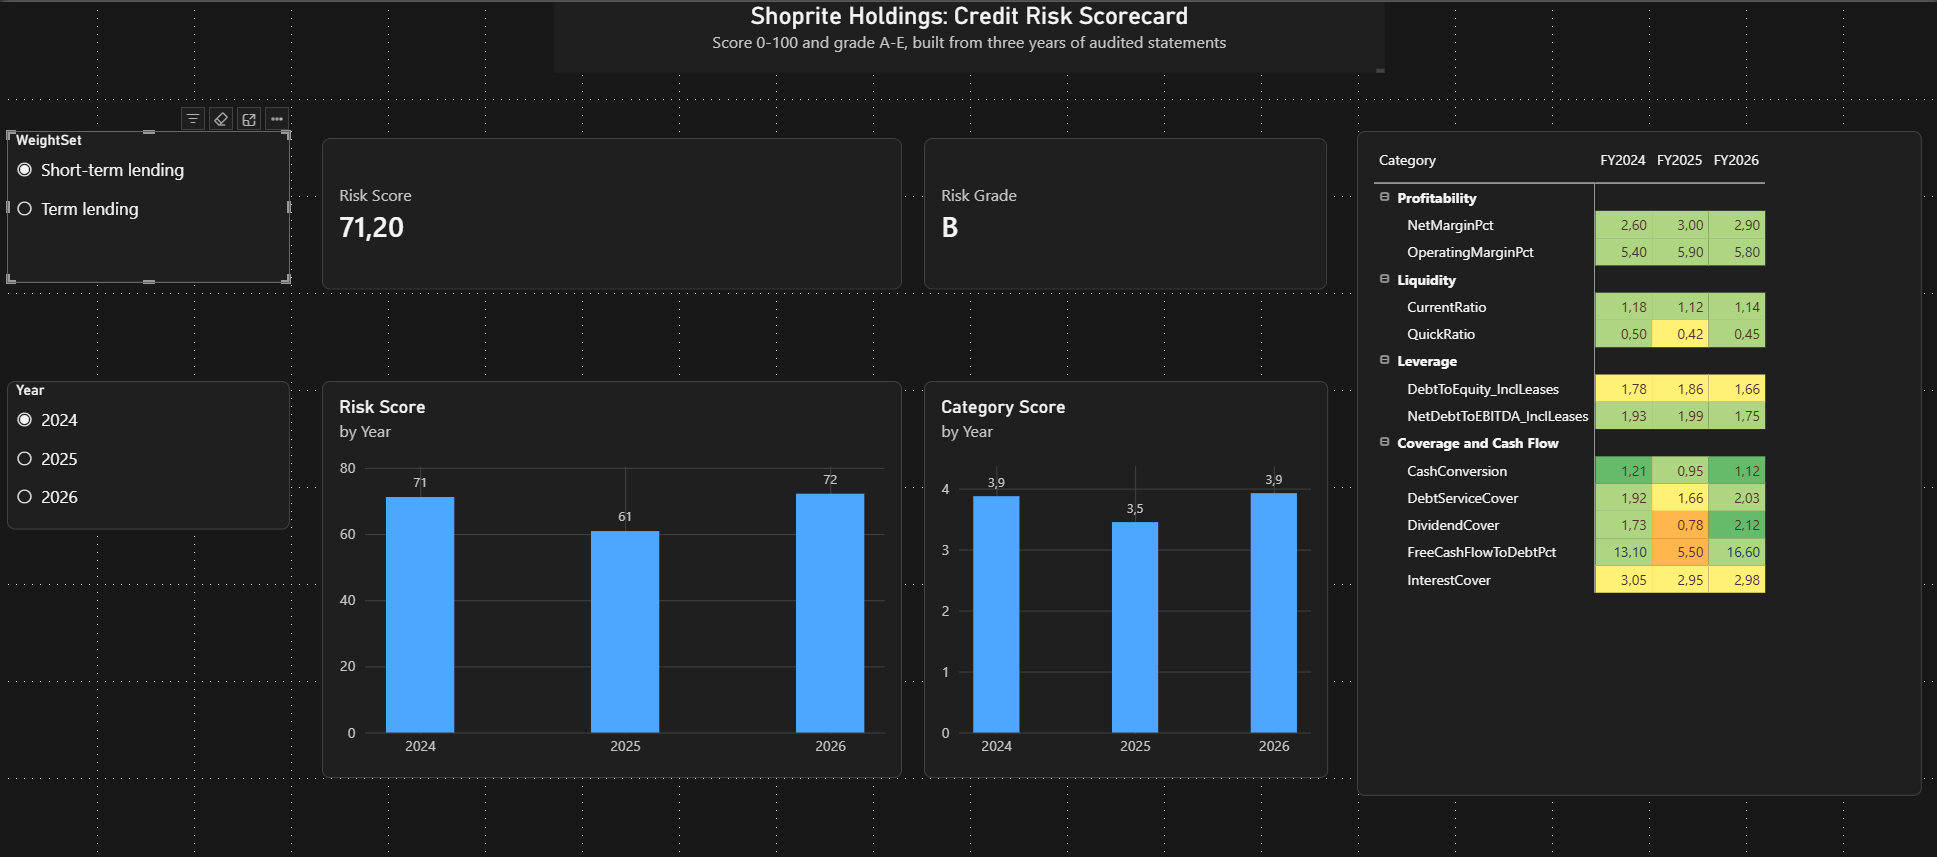

What the dashboard file says about the page in this screenshot:
{"tool":"powerbi","page":{"name":"Page 1","canvas":[1920,1080],"ordinal":0},"visuals":[{"type":"slicer","fields":{"Values":["RiskScore.WeightSet"]},"box":[6.9,127.7,280.1,150.4],"z":0},{"type":"slicer","fields":{"Values":["FinancialPeriod.FiscalYearEnd.Variation.Date Hierarchy.Year"]},"box":[6.9,375.1,280.1,147.5],"z":1},{"type":"cardVisual","fields":{"Data":["RatioScore.Risk Score"]},"box":[318.7,134.6,574,150.4],"z":2},{"type":"cardVisual","fields":{"Data":["RatioScore.Risk Grade"]},"box":[914.5,134.6,399.8,150.4],"z":3},{"type":"clusteredColumnChart","fields":{"Category":["FinancialPeriod.FiscalYearEnd.Variation.Date Hierarchy.Year"],"Y":["RatioScore.Risk Score"]},"box":[318.7,375.1,574,392.9],"z":4},{"type":"clusteredColumnChart","fields":{"Category":["FinancialPeriod.FiscalYearEnd.Variation.Date Hierarchy.Year"],"Y":["RatioScore.Category Score"]},"box":[914.5,375.1,399.8,392.9],"z":5},{"type":"pivotTable","fields":{"Columns":["FinancialPeriod.Fiscal Year"],"Rows":["RatioScore.Category","RatioScore.RatioName"],"Values":["RatioScore.Ratio Value"]},"box":[1343,127.7,559.2,658.1],"z":6},{"type":"textbox","title":"Shoprite Holdings: Credit Risk Scorecard","box":[548.3,0,822.4,70.3],"z":7}]}

Visuals, with their boxes on the page's 1920x1080 design canvas (x1, y1, x2, y2). These are canvas units, not pixel positions in the 1937x857 screenshot, which may show the page scaled, cropped or inside an application window:
slicer - RiskScore.WeightSet: rect(7, 128, 287, 278)
slicer - FinancialPeriod.FiscalYearEnd.Variation.Date Hierarchy.Year: rect(7, 375, 287, 523)
cardVisual - RatioScore.Risk Score: rect(319, 135, 893, 285)
cardVisual - RatioScore.Risk Grade: rect(914, 135, 1314, 285)
clusteredColumnChart - FinancialPeriod.FiscalYearEnd.Variation.Date Hierarchy.Year x RatioScore.Risk Score: rect(319, 375, 893, 768)
clusteredColumnChart - FinancialPeriod.FiscalYearEnd.Variation.Date Hierarchy.Year x RatioScore.Category Score: rect(914, 375, 1314, 768)
pivotTable - FinancialPeriod.Fiscal Year x RatioScore.Category: rect(1343, 128, 1902, 786)
"Shoprite Holdings: Credit Risk Scorecard" textbox: rect(548, 0, 1371, 70)
